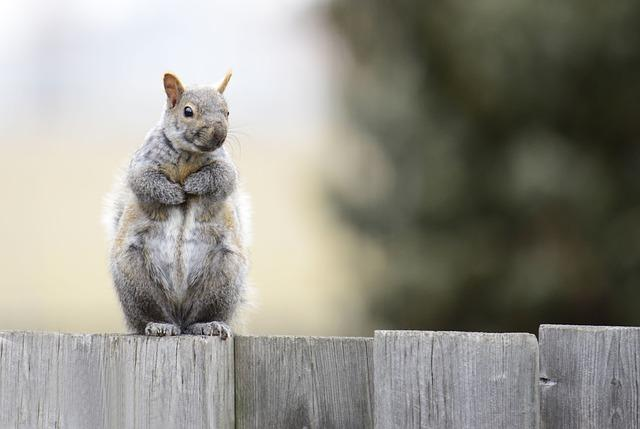Non_Gorille: (82, 68, 308, 351)
